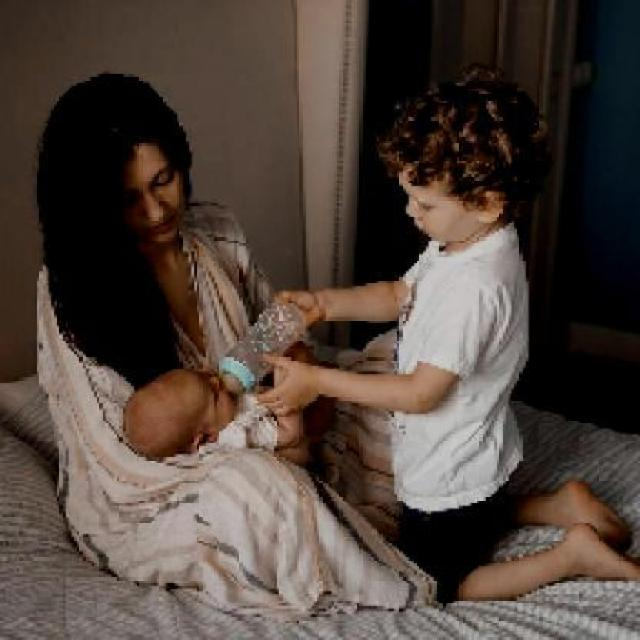child: (254, 63, 640, 600), (122, 337, 324, 469)
